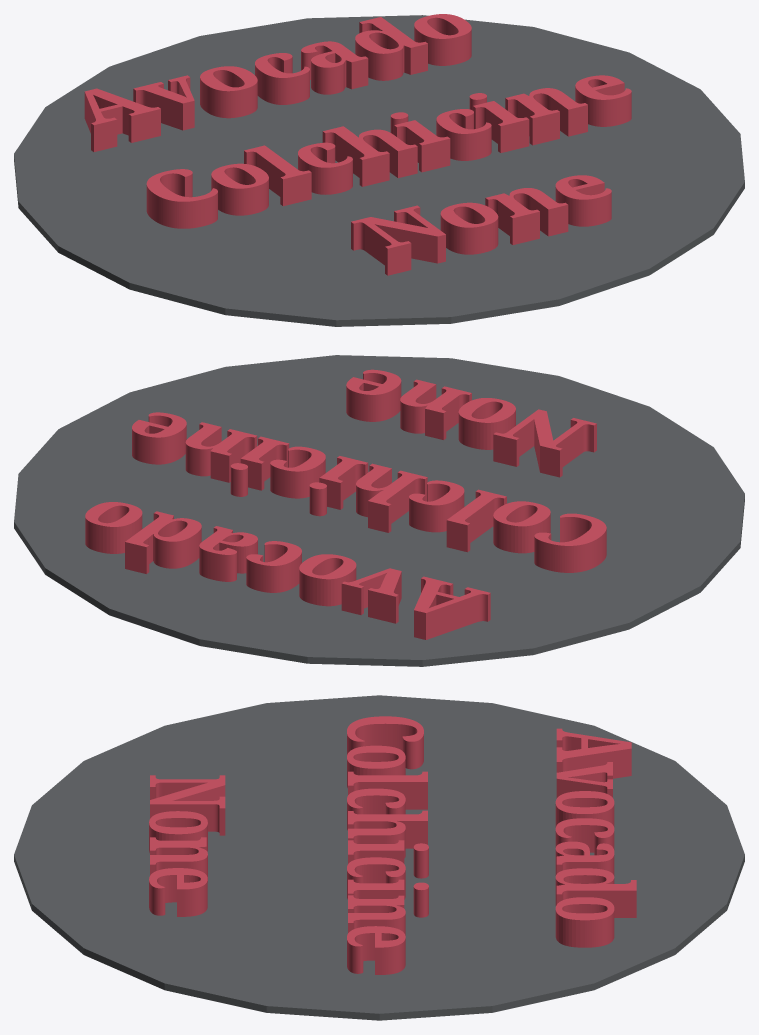
The model's file is phoenix.gltf.
3 renders of one model, top to bottom at view 1: azimuth 30°, elevation 25°; view 2: azimuth 150°, elevation 25°; view 3: azimuth 270°, elevation 25°, orthographic.
Parts seen in each view (by area): view 1: Mesh_Mesh_head_geo001_lambert2SG001; view 2: Mesh_Mesh_head_geo001_lambert2SG001; view 3: Mesh_Mesh_head_geo001_lambert2SG001.
Part boxes in pixels (left/top/right/bottom): Mesh_Mesh_head_geo001_lambert2SG001: left=14, top=14, right=744, bottom=326; Mesh_Mesh_head_geo001_lambert2SG001: left=14, top=355, right=744, bottom=666; Mesh_Mesh_head_geo001_lambert2SG001: left=14, top=695, right=744, bottom=1020.
Bounding box in the file's own units: 199 × 10 × 193.
